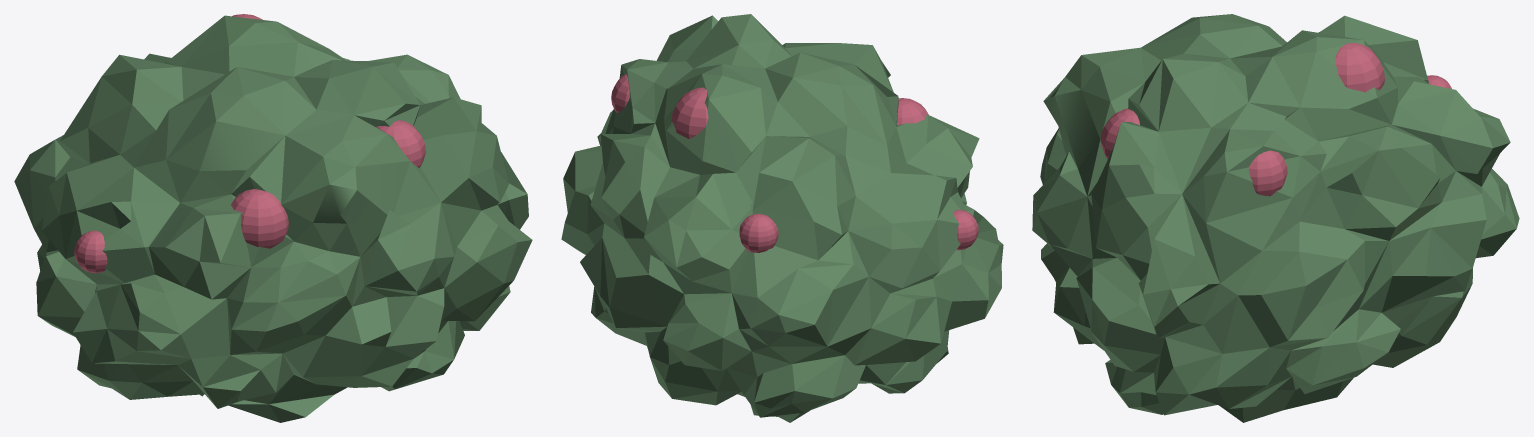
File: shrub2.fbx
The picture shows the model from 3 angles, left to right: view 1: azimuth 30°, elevation 25°; view 2: azimuth 150°, elevation 25°; view 3: azimuth 270°, elevation 25°; orthographic projection. The views are drawn at different scales.
Visible parts, largest first — view 1: shrub2, pSphere29, pSphere31, pSphere32; view 2: shrub2, pSphere30, pSphere28, pSphere31, pSphere29, pSphere26; view 3: shrub2, pSphere30, pSphere26, pSphere32.
Boxes of the visible parts, <box> form: shrub2: <box>14,15,532,422</box>; pSphere29: <box>231,189,288,248</box>; pSphere31: <box>74,230,107,273</box>; pSphere32: <box>376,120,425,167</box>; shrub2: <box>561,14,1003,422</box>; pSphere30: <box>671,87,708,138</box>; pSphere28: <box>739,214,778,252</box>; pSphere31: <box>954,209,978,250</box>; pSphere29: <box>897,98,928,125</box>; pSphere26: <box>611,74,629,112</box>; shrub2: <box>1032,14,1519,422</box>; pSphere30: <box>1335,42,1384,92</box>; pSphere26: <box>1248,150,1287,196</box>; pSphere32: <box>1100,108,1139,159</box>.
Bounding box in the file's own units: 3.94 × 3.05 × 3.71.
